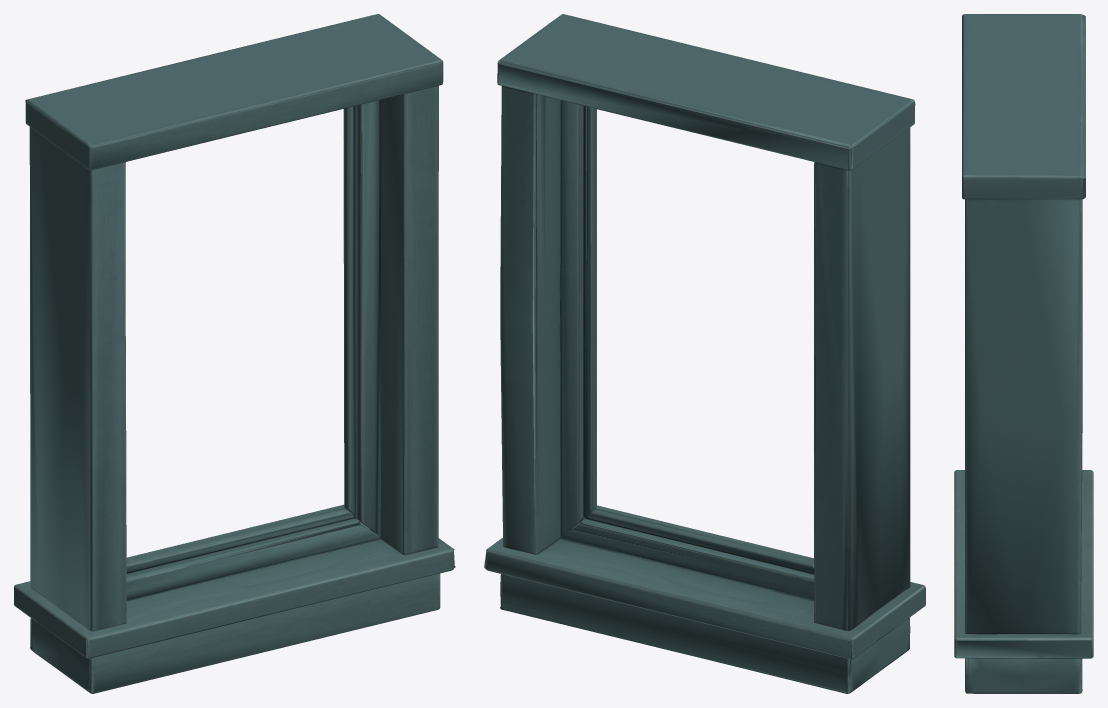
The model's file is ck_window_frame-original.glb.
3 views of the same model, side by side, from view 1: azimuth 30°, elevation 25°; view 2: azimuth 150°, elevation 25°; view 3: azimuth 270°, elevation 25° (orthographic). The views are drawn at different scales.
Size of the model in its own units: 0.6675 by 0.9492 by 0.2314.
Materials: 1 (1 with a texture image).
